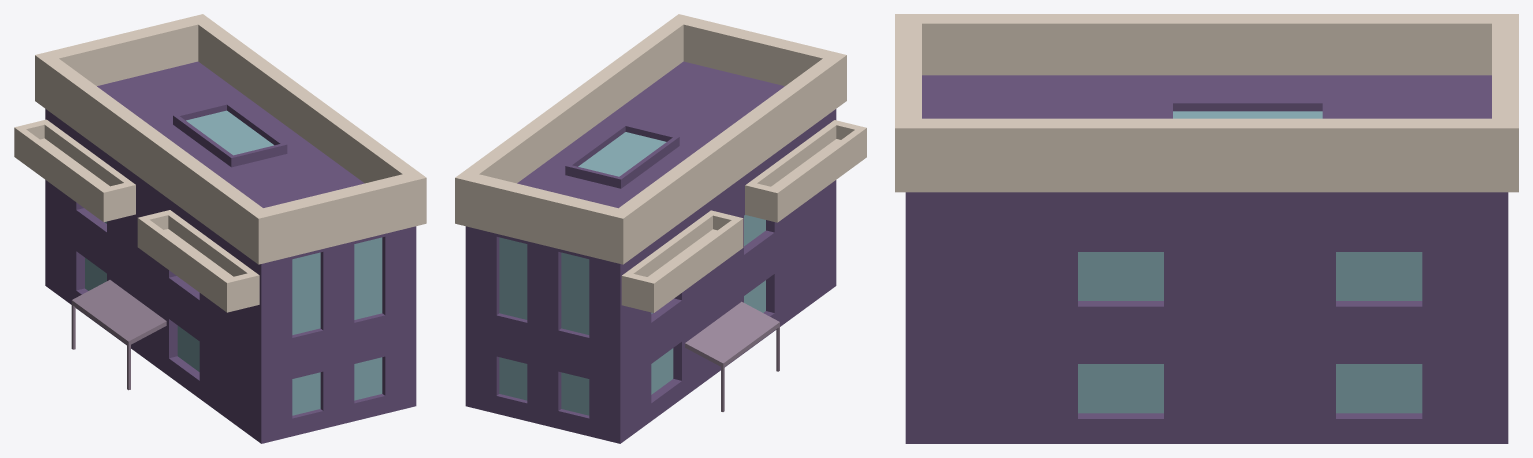
File: house_3.fbx
3 views of the same model, side by side, from view 1: azimuth 30°, elevation 25°; view 2: azimuth 150°, elevation 25°; view 3: azimuth 270°, elevation 25° (orthographic). The views are drawn at different scales.
Parts seen in each view (by area): view 1: polySurface1872; view 2: polySurface1872; view 3: polySurface1872.
Part boxes in pixels (left/top/right/bottom): polySurface1872: left=14, top=14, right=426, bottom=443; polySurface1872: left=455, top=14, right=866, bottom=443; polySurface1872: left=895, top=14, right=1518, bottom=443.
Size of the model in its own units: 19.59 by 38 by 22.11.
